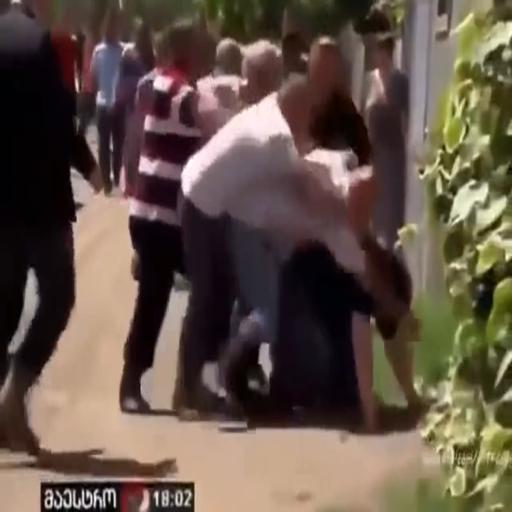violencia: (172, 25, 424, 445)
